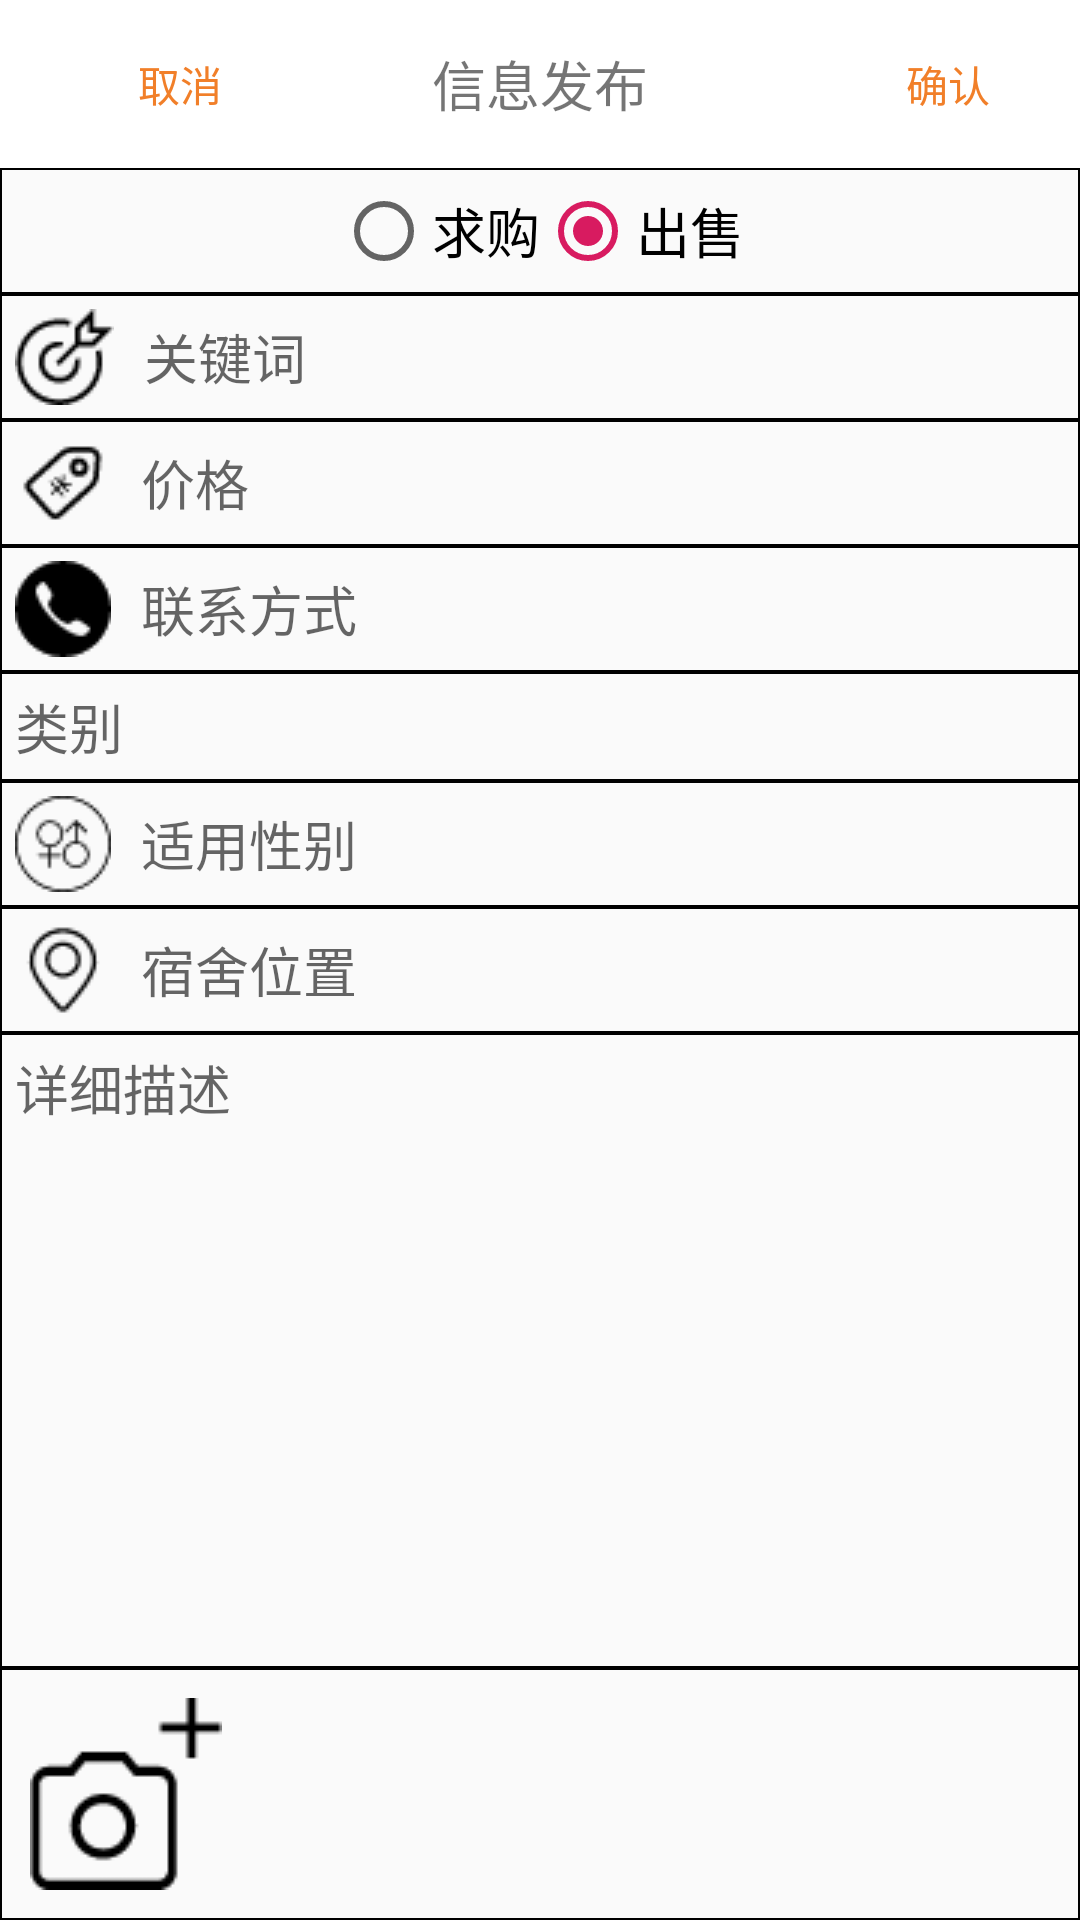

Screen size 1080px×1920px. Icon name, then its center in pixels as (x=x, y=y):
photo: (x=126, y=1794)
